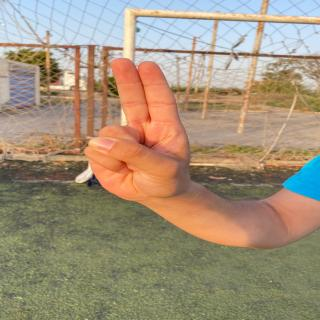TA: (73, 52, 220, 213)
